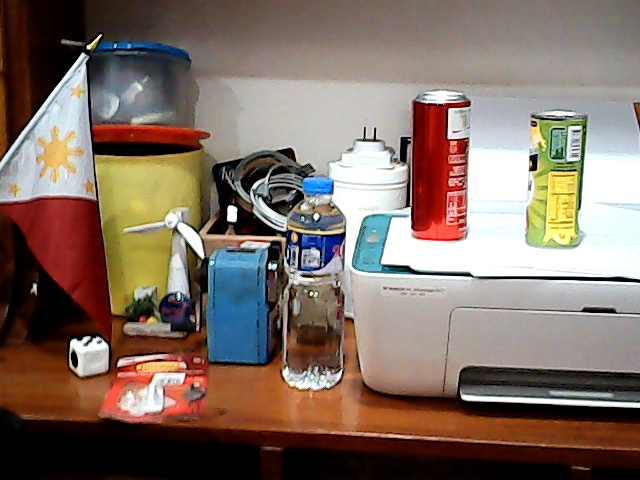Cola: (402, 84, 478, 246)
Pine Juice: (517, 105, 597, 251)
Summit Water: (275, 169, 355, 393)
